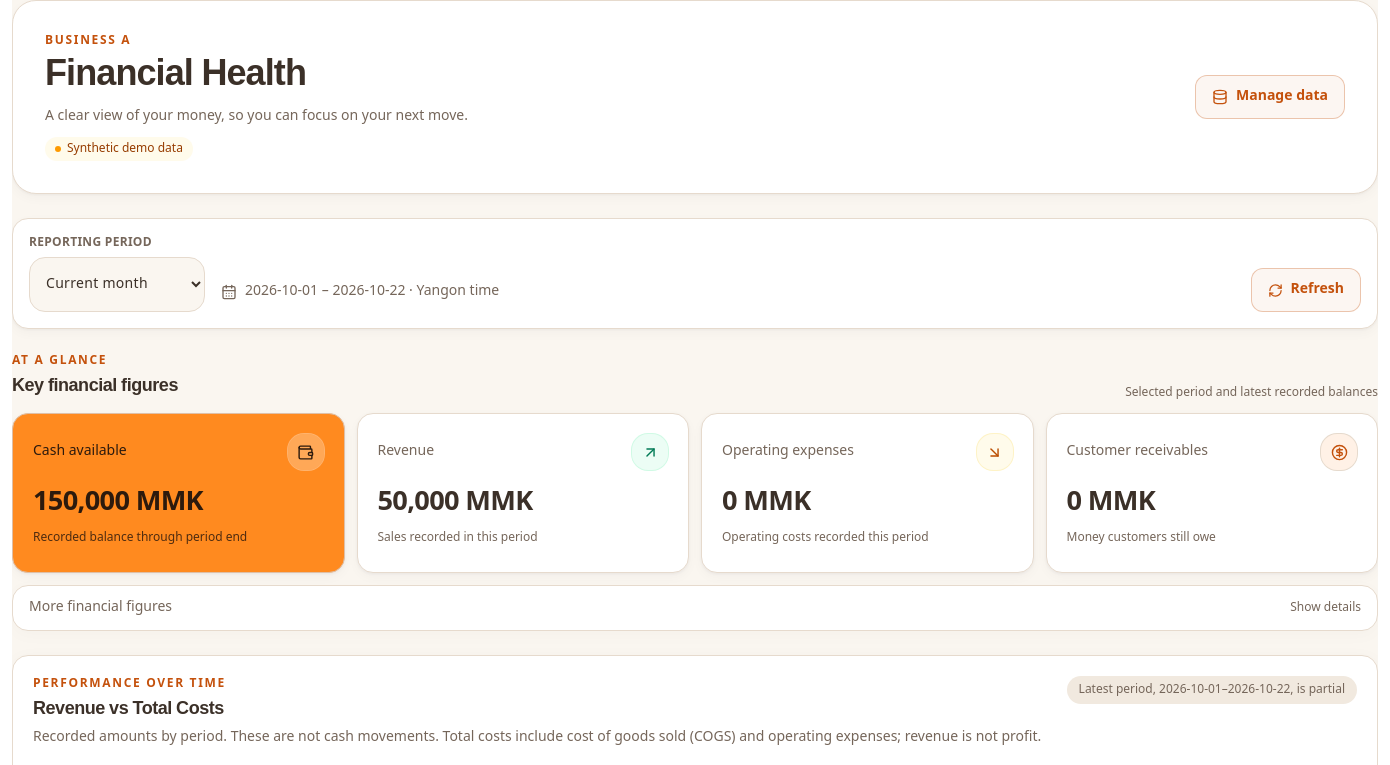
Financial reporting › updates period KPIs while keeping cumulative cash distinct from period revenue
Expected: the text "Cash available" shows "150,000 MMK", [33, 474, 203, 533]
Select "Previous month" in the dropdown labelled "Reporting period" at [117, 284], box [29, 257, 205, 312]
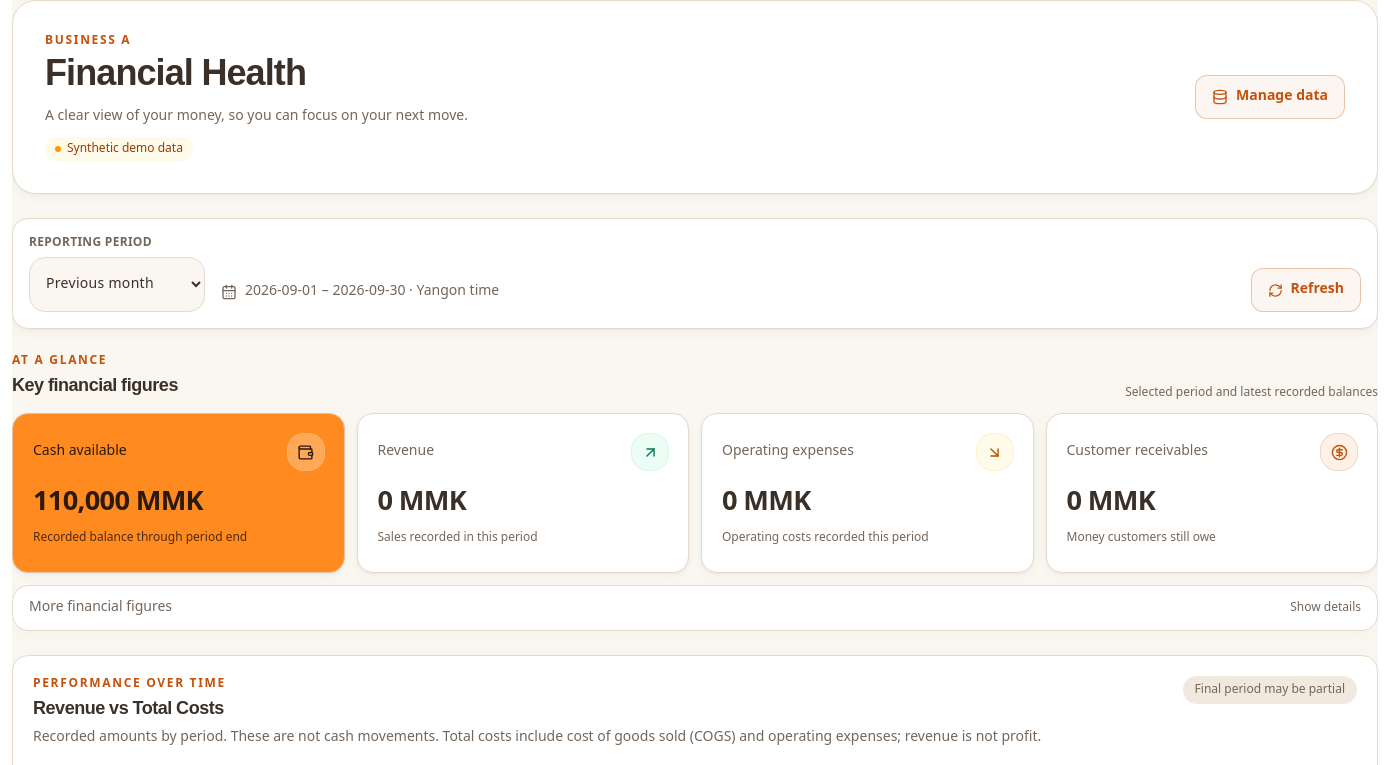
Expected: the text "Revenue" shows "0 MMK", [378, 474, 466, 533]
Expected: the text "Cash available" shows "110,000 MMK", [33, 474, 203, 533]
Expected: the text "Cash available" no longer shows "150,000 MMK", [12, 413, 344, 573]
